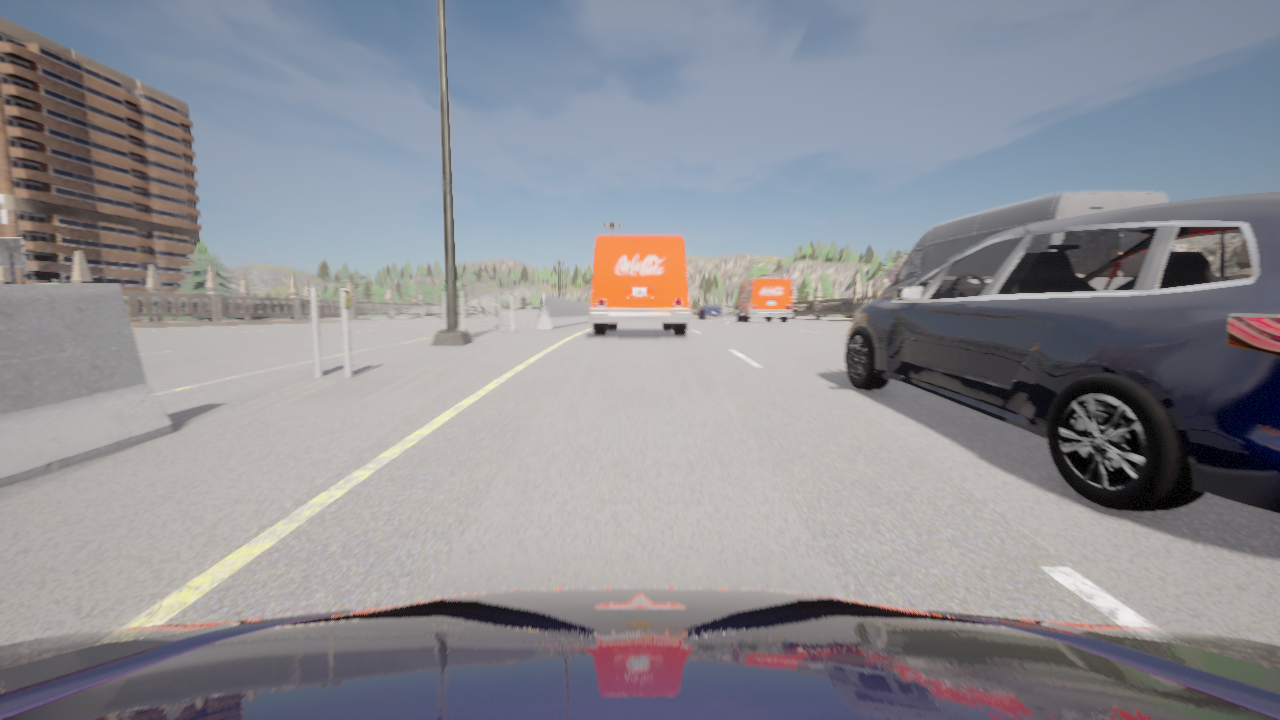cyclist: (0, 588, 1279, 719), (844, 191, 1279, 513), (878, 191, 1168, 298), (589, 236, 691, 335), (732, 278, 793, 322), (699, 303, 722, 318)
